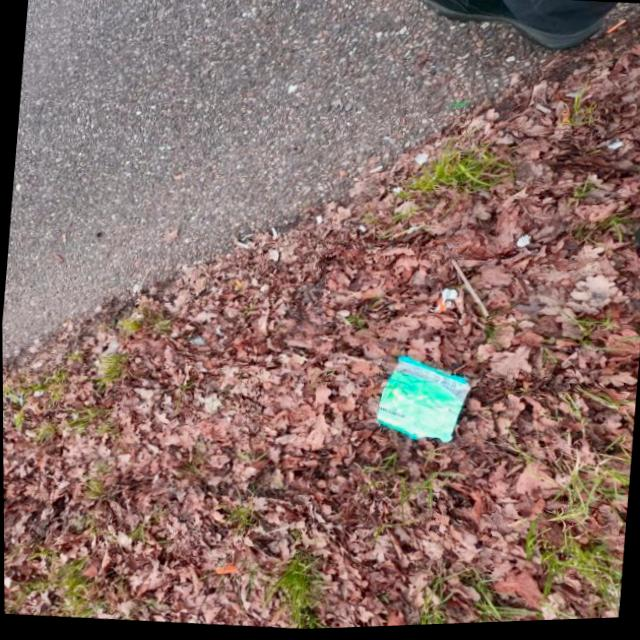Plastic: (367, 354, 472, 449), (430, 290, 456, 319)
